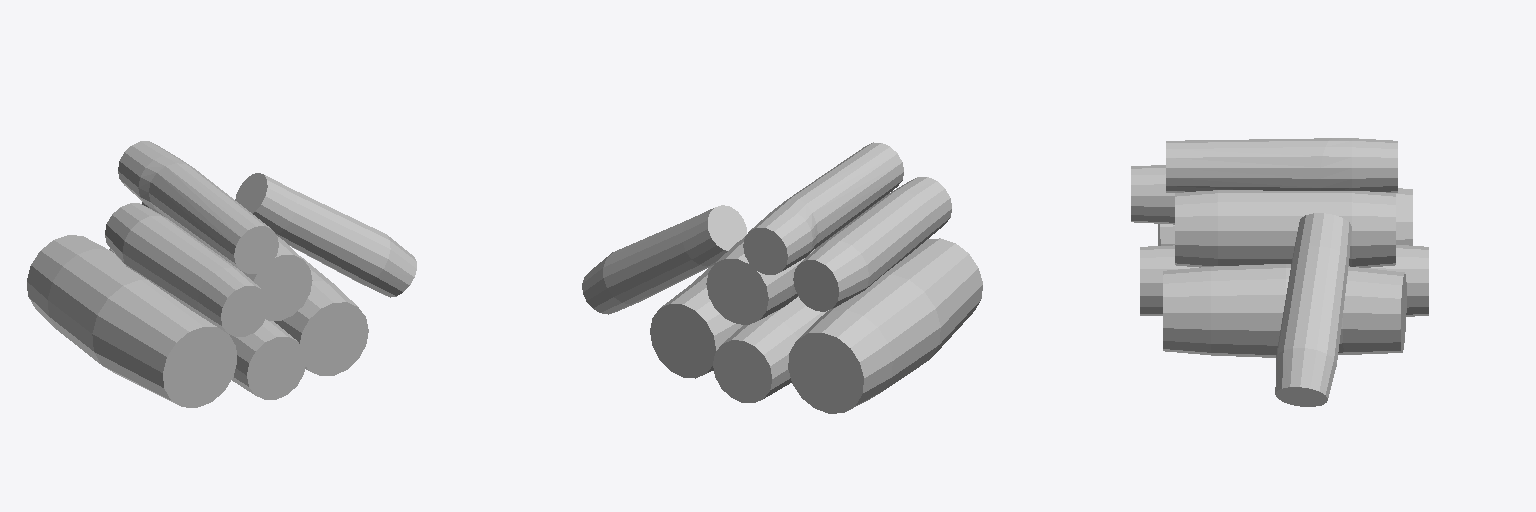
Rendered from Timber_Stack_1.obj.
3 renders of one model, left to right at view 1: azimuth 30°, elevation 25°; view 2: azimuth 150°, elevation 25°; view 3: azimuth 270°, elevation 25°, orthographic.
Parts seen in each view (by area): view 1: Cylinder.020, Cylinder.022, Cylinder.025, Cylinder.024, Cylinder.019, Cylinder.021, Cylinder.023; view 2: Cylinder.020, Cylinder.022, Cylinder.024, Cylinder.025, Cylinder.021, Cylinder.019, Cylinder.023; view 3: Cylinder.019, Cylinder.023, Cylinder.024, Cylinder.025, Cylinder.021, Cylinder.022, Cylinder.020.
Part boxes in pixels (x1,y1,x2,y2): Cylinder.020: (27, 235, 236, 407); Cylinder.022: (105, 203, 268, 336); Cylinder.025: (235, 173, 416, 297); Cylinder.024: (118, 141, 278, 273); Cylinder.019: (274, 256, 368, 375); Cylinder.021: (109, 248, 305, 399); Cylinder.023: (142, 202, 312, 320); Cylinder.020: (788, 238, 982, 413); Cylinder.022: (793, 177, 951, 311); Cylinder.024: (743, 142, 903, 274); Cylinder.025: (582, 205, 746, 314); Cylinder.021: (713, 296, 828, 402); Cylinder.019: (650, 265, 742, 378); Cylinder.023: (706, 237, 814, 324); Cylinder.019: (1163, 264, 1406, 357); Cylinder.023: (1175, 190, 1395, 267); Cylinder.024: (1166, 138, 1397, 192); Cylinder.025: (1275, 213, 1351, 406); Cylinder.021: (1140, 245, 1428, 316); Cylinder.022: (1131, 165, 1174, 224); Cylinder.020: (1158, 188, 1412, 245).
Bounding box in the file's own units: 1.16 × 0.5847 × 0.8935.